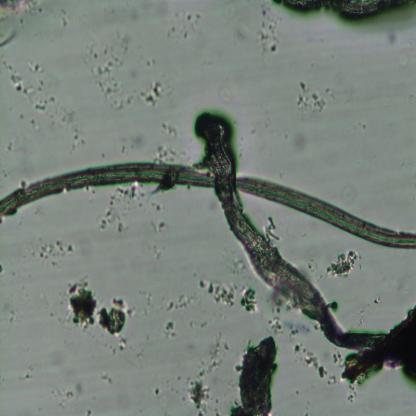Background material: (84, 36, 174, 113), (56, 276, 137, 348), (340, 308, 416, 382), (228, 336, 281, 416), (98, 183, 170, 238), (24, 78, 75, 128), (174, 373, 217, 416), (24, 234, 80, 264), (294, 79, 334, 116), (320, 246, 360, 281), (255, 4, 281, 57), (288, 342, 327, 377), (196, 332, 227, 376), (165, 8, 203, 41), (154, 125, 184, 164), (198, 277, 235, 308), (0, 0, 46, 21), (51, 380, 84, 408), (119, 128, 149, 156), (3, 56, 24, 94), (236, 286, 260, 313), (271, 290, 285, 333), (262, 215, 282, 245), (69, 123, 85, 157), (165, 291, 190, 310), (286, 322, 310, 340), (336, 186, 358, 204), (293, 134, 310, 155), (0, 27, 14, 52), (162, 317, 176, 339), (220, 1, 237, 19), (232, 256, 245, 278), (5, 307, 22, 323), (27, 58, 44, 74), (61, 7, 72, 31), (3, 138, 16, 158), (22, 364, 36, 382), (219, 85, 233, 103), (140, 289, 152, 309), (235, 25, 248, 40), (347, 386, 358, 402), (398, 52, 408, 69), (152, 245, 162, 262), (131, 8, 141, 23), (305, 395, 312, 416), (355, 120, 367, 132), (326, 374, 338, 386), (332, 350, 341, 366), (100, 374, 112, 384), (152, 384, 162, 395), (388, 34, 396, 47), (136, 348, 145, 359), (373, 296, 383, 304), (0, 259, 5, 274), (85, 409, 95, 416), (294, 390, 300, 396)
Cellulose filter fibre: (189, 108, 399, 368), (271, 0, 416, 22)
Microfibre: (0, 157, 416, 249)
